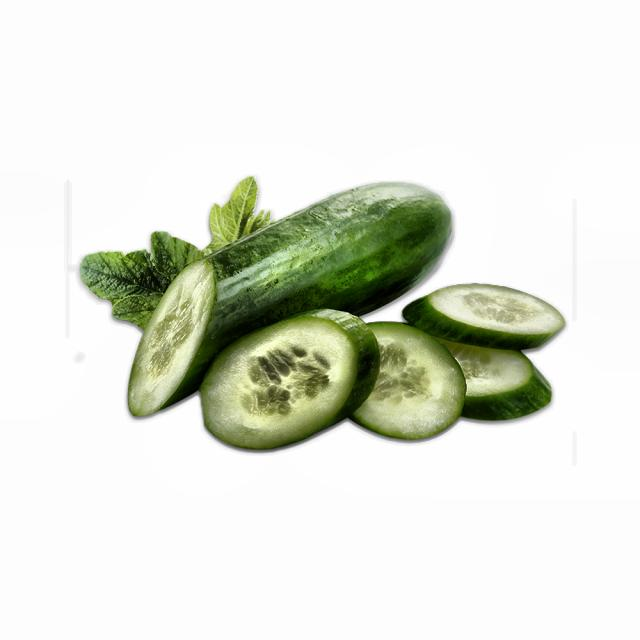cucumber: (30, 138, 578, 604)
